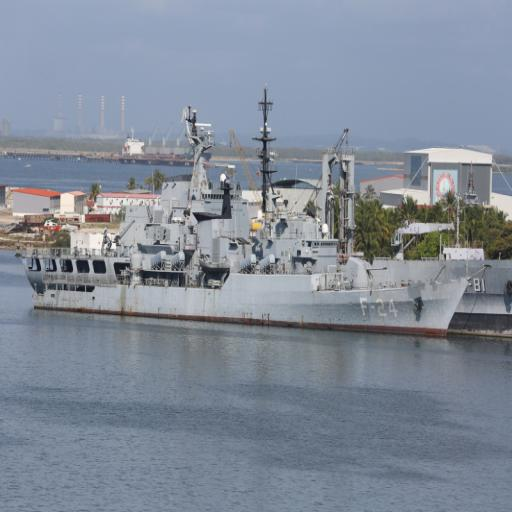Fragata: (19, 140, 472, 345)
